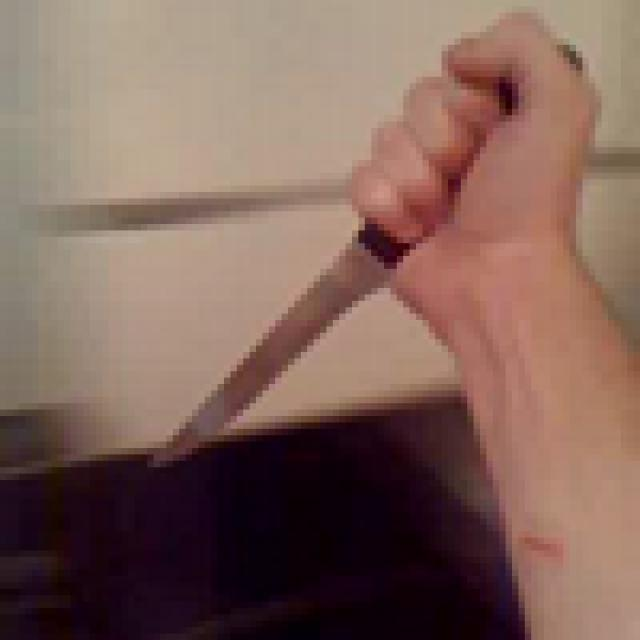Weapons: (144, 39, 581, 462)
